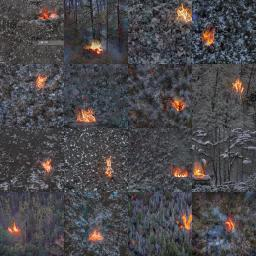Small fire: (74, 103, 96, 127), (173, 2, 193, 27), (82, 38, 104, 57), (172, 163, 189, 183), (201, 29, 217, 50), (177, 215, 193, 236), (168, 97, 187, 114), (88, 229, 110, 243), (37, 8, 60, 21), (102, 156, 115, 178), (193, 161, 208, 180), (223, 214, 236, 235), (232, 77, 244, 96), (40, 158, 54, 174), (8, 222, 20, 237), (34, 75, 46, 89)
